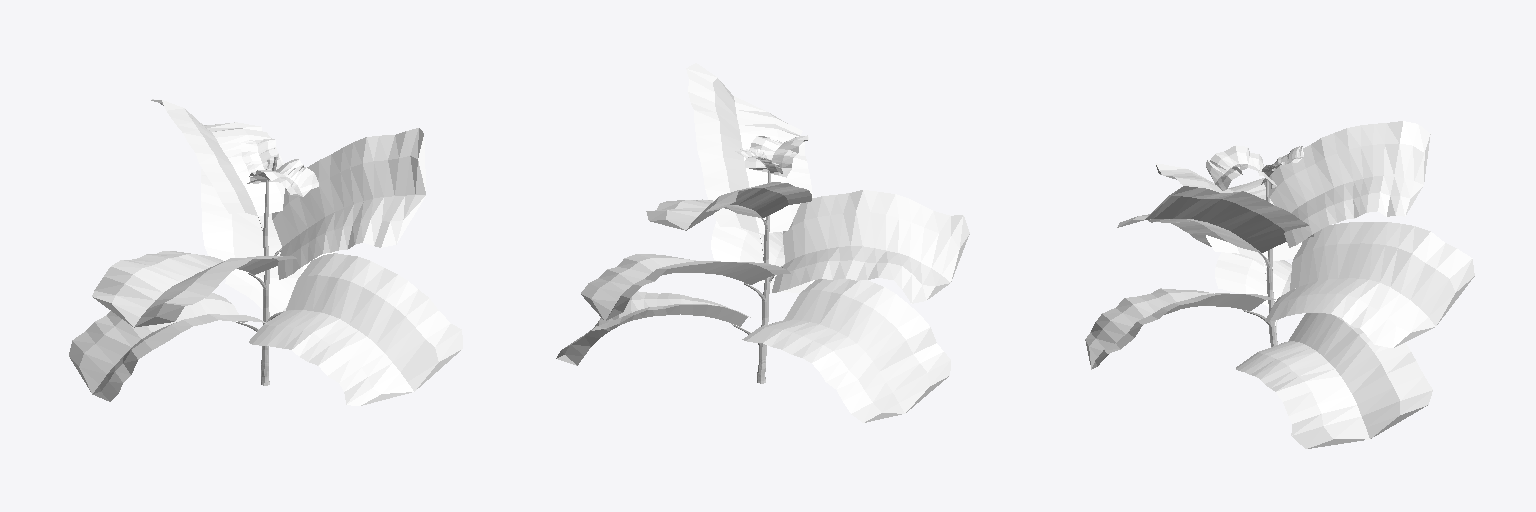
3 views of the same model, side by side, from view 1: azimuth 30°, elevation 25°; view 2: azimuth 150°, elevation 25°; view 3: azimuth 270°, elevation 25° (orthographic).
Visible parts, largest first — view 1: VG14_1; view 2: VG14_1; view 3: VG14_1.
Boxes of the visible parts, <box> form: VG14_1: <box>69,99,462,405</box>; VG14_1: <box>556,63,969,422</box>; VG14_1: <box>1085,121,1474,448</box>.
Bounding box in the file's own units: 0.4829 × 0.362 × 0.4969.